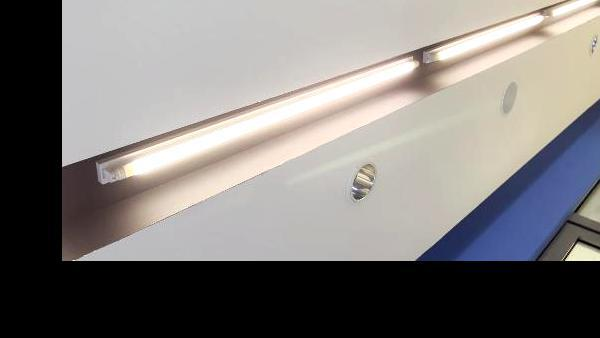light_on: (85, 54, 421, 193), (429, 8, 549, 67), (541, 0, 600, 23)
